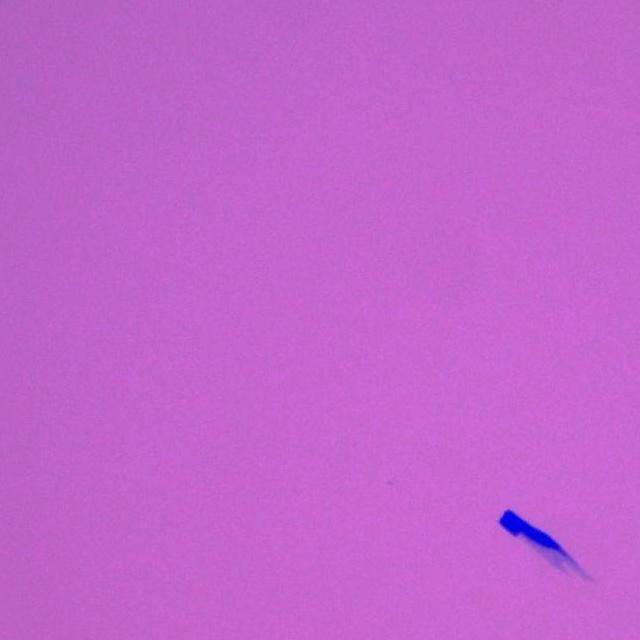monolayer-eWW4: (522, 532, 590, 580)
